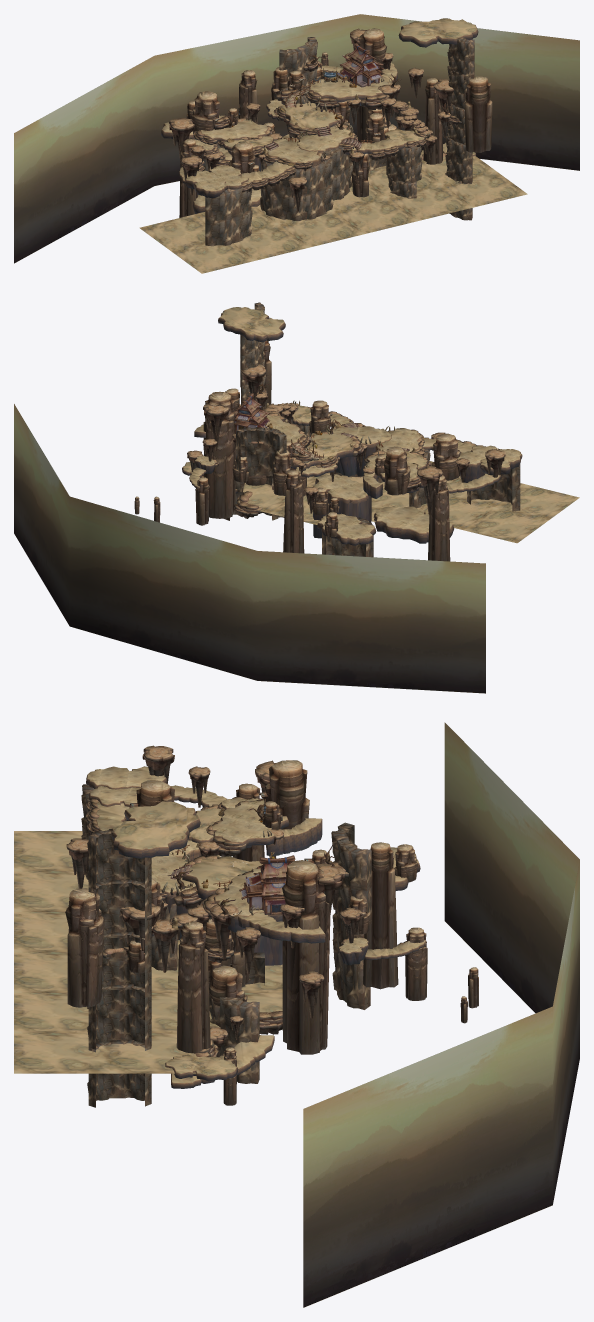
3 renders of one model, top to bottom at view 1: azimuth 30°, elevation 25°; view 2: azimuth 150°, elevation 25°; view 3: azimuth 270°, elevation 25°, orthographic. The views are drawn at different scales.
Visible parts, largest first — view 1: Plane007, Plane010, Object004, Object001, Object002, Object025, Object003, Mesh_0034, Object031, Object011, Object041; view 2: Plane007, Object002, Plane010, Object004, Object001, Object003, Object025, Object011, Object041, Mesh_0034, Object008; view 3: Plane007, Object002, Object004, Plane010, Object001, Object031, Object025, Object011, Object003, Mesh_0034, Object008, Object028 (+1 smaller).
Part boxes in pixels (x1,y1,x2,y2): Plane007: (14, 14, 579, 263); Plane010: (179, 52, 462, 213); Object004: (139, 156, 527, 273); Object001: (205, 37, 474, 246); Object002: (161, 28, 492, 197); Object025: (398, 18, 478, 47); Object003: (181, 113, 384, 195); Mesh_0034: (337, 43, 383, 87); Object031: (423, 77, 442, 164); Object011: (238, 70, 258, 124); Object041: (179, 138, 197, 217); Plane007: (14, 404, 485, 693); Object002: (187, 340, 442, 545); Plane010: (234, 382, 522, 543); Object004: (238, 461, 579, 543); Object001: (224, 302, 520, 520); Object003: (309, 400, 505, 488); Object025: (218, 307, 285, 342); Object011: (283, 470, 304, 553); Object041: (428, 475, 450, 561); Mesh_0034: (233, 393, 270, 433); Object008: (322, 517, 373, 557); Plane007: (303, 722, 579, 1307); Object002: (65, 760, 427, 1105); Object004: (14, 831, 282, 1073); Plane010: (66, 766, 335, 973); Object001: (81, 784, 264, 1107); Object031: (176, 921, 210, 1053); Object025: (111, 801, 200, 858); Object011: (363, 842, 398, 989); Object003: (136, 745, 210, 919); Mesh_0034: (239, 855, 294, 914); Object008: (332, 910, 370, 1009); Object028: (165, 1054, 238, 1081).
Bounding box in the file's own units: 9466 × 3889 × 5854.
